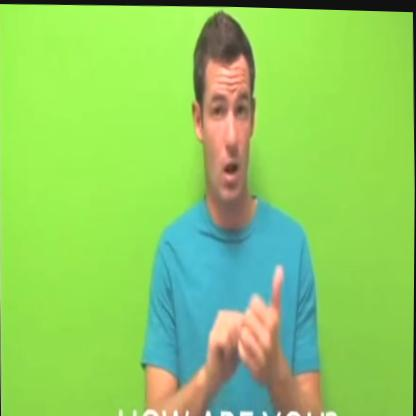HowAreYou: (190, 257, 304, 379)
